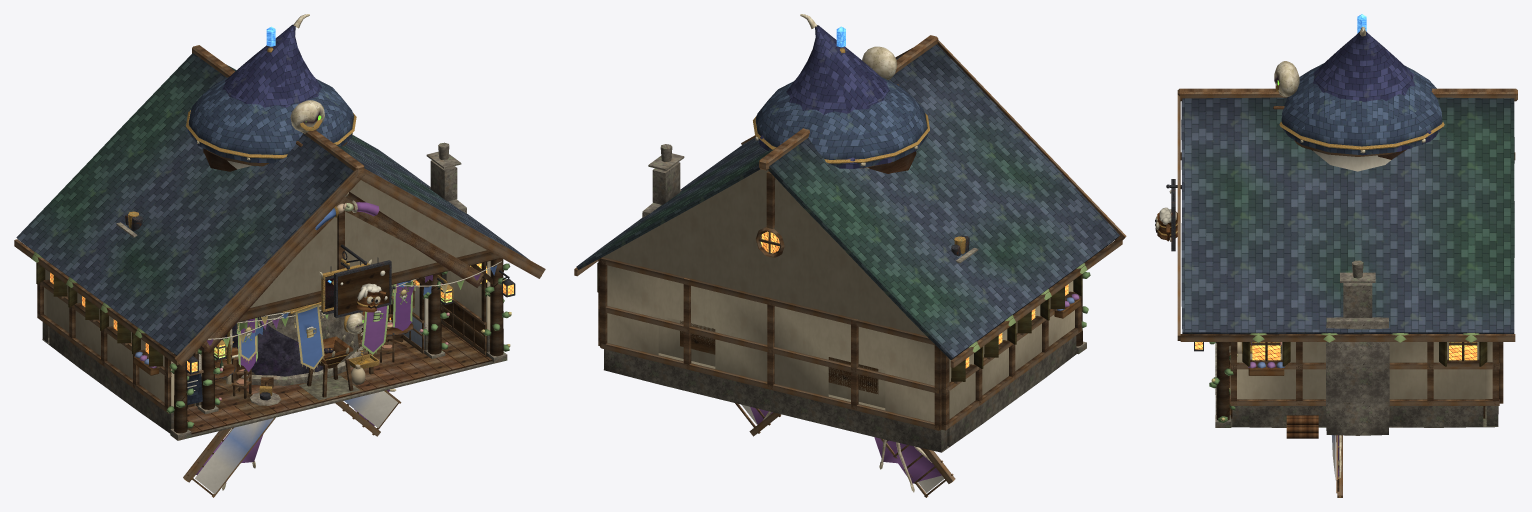
The model's file is town_kit.glb.
The picture shows the model from 3 angles, left to right: view 1: azimuth 30°, elevation 25°; view 2: azimuth 150°, elevation 25°; view 3: azimuth 270°, elevation 25°; orthographic projection. The views are drawn at different scales.
Parts seen in each view (by area): view 1: N_Tavern, D_Mill, D_Tavern, G_Mill, G_Tavern, D_MillSails; view 2: N_Tavern, D_Mill, G_Mill, G_MillSails, D_MillSails; view 3: N_Tavern, D_Mill, G_Mill, D_MillSails.
Boxes of the visible parts, left/top/right/bottom form: N_Tavern: left=14, top=45, right=545, bottom=440; D_Mill: left=186, top=26, right=379, bottom=405; D_Tavern: left=116, top=194, right=483, bottom=414; G_Mill: left=187, top=14, right=363, bottom=376; G_Tavern: left=125, top=192, right=483, bottom=406; D_MillSails: left=183, top=390, right=401, bottom=497; N_Tavern: left=574, top=35, right=1126, bottom=452; D_Mill: left=753, top=26, right=929, bottom=168; G_Mill: left=755, top=14, right=917, bottom=173; G_MillSails: left=750, top=407, right=941, bottom=492; D_MillSails: left=735, top=403, right=955, bottom=497; N_Tavern: left=1155, top=88, right=1517, bottom=438; D_Mill: left=1229, top=14, right=1444, bottom=353; G_Mill: left=1274, top=26, right=1436, bottom=159; D_MillSails: left=1331, top=435, right=1342, bottom=497.
Size of the model in its own units: 12.54 by 14.37 by 10.24.
Materials: 15 (15 with a texture image).
